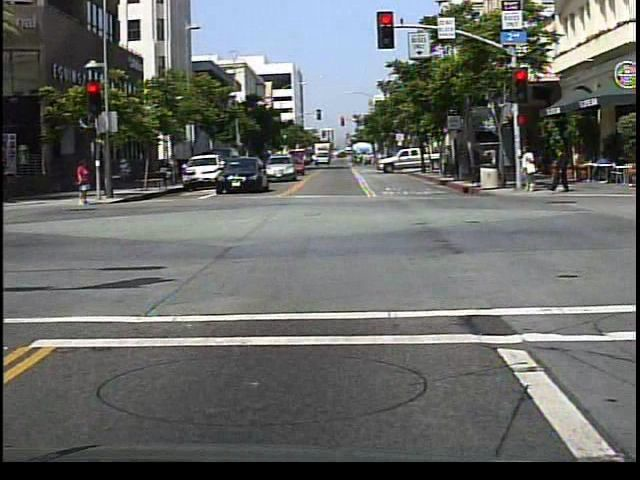person: (550, 145, 575, 194), (520, 144, 539, 195), (76, 157, 93, 208)
